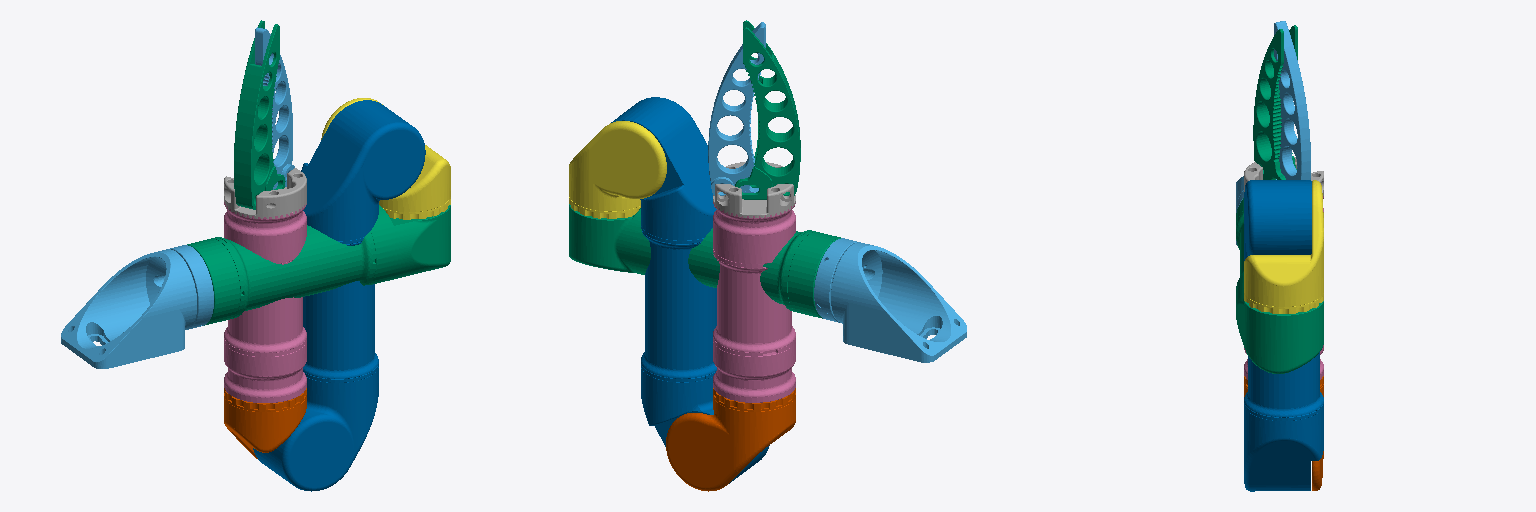
robot.urdf — reach_alpha_5:
<?xml version='1.0' encoding='utf-8'?>
<robot name="reach_alpha_5">
  <link name="world" />
  <link name="base_link">
    <visual>
      <geometry>
        <mesh filename="assets/RS1-1010.obj" />
      </geometry>
      <origin rpy="0 0 0" xyz="0 0 0" />
    </visual>
    <collision>
      <geometry>
        <cylinder length="0.150" radius="0.020" />
      </geometry>
      <origin rpy="0 1.57075 0" xyz="-0.055 0 0" />
    </collision>
    <inertial>
      <mass value="0.0001" />
      <inertia ixx="0.0001" ixy="0" ixz="0" iyy="0.0001" iyz="0" izz="0.0001" />
    </inertial>
  </link>
  <link name="m3_inline_link">
    <visual>
      <geometry>
        <mesh filename="assets/M3-INLINE.obj" />
      </geometry>
      <origin rpy="0 0 0" xyz="0 0 0" />
    </visual>
    <collision>
      <geometry>
        <cylinder length="0.150" radius="0.020" />
      </geometry>
      <origin rpy="0 1.57075 0" xyz="-0.055 0 0" />
    </collision>
    <inertial>
      <mass value="0.341" />
      <origin xyz="-0.055 0 0" />
      <inertia ixx="0.0000682" ixy="0" ixz="0" iyy="0.000673" iyz="0" izz="0.000673" />
    </inertial>
  </link>
  <link name="m2_1_1_link">
    <visual>
      <geometry>
        <mesh filename="assets/M2-1-1.obj" />
      </geometry>
      <origin rpy="0 0 0" xyz="0 0 0" />
    </visual>
    <collision>
      <geometry>
        <cylinder length="0.033" radius="0.020" />
      </geometry>
      <origin rpy="0 0 0" xyz="0 0 0.0165" />
    </collision>
    <inertial>
      <mass value="0.194" />
      <origin xyz="0 0 0.0165" />
      <inertia ixx="0.000037" ixy="0" ixz="0" iyy="0.000037" iyz="0" izz="0.0000388" />
    </inertial>
  </link>
  <link name="m2_link">
    <visual>
      <geometry>
        <mesh filename="assets/M2.obj" />
      </geometry>
      <origin rpy="0 0 0" xyz="0 0 0" />
    </visual>
    <collision>
      <geometry>
        <cylinder length="0.145" radius="0.020" />
      </geometry>
      <origin rpy="0 0 0" xyz="-0.02 0 -0.0725" />
    </collision>
    <collision>
      <geometry>
        <cylinder length="0.040" radius="0.020" />
      </geometry>
      <origin rpy="1.5707 0 0" xyz="0 0 0" />
    </collision>
    <collision>
      <geometry>
        <cylinder length="0.040" radius="0.020" />
      </geometry>
      <origin rpy="1.5707 0 0" xyz="-0.040 0 -0.1453" />
    </collision>
    <inertial>
      <mass value="0.429" />
      <origin xyz="-0.02 0 -0.0725" />
      <inertia ixx="0.0008907" ixy="0" ixz="0" iyy="0.0008907" iyz="0" izz="0.0000858" />
    </inertial>
  </link>
  <link name="m2_1_3_link">
    <visual>
      <geometry>
        <mesh filename="assets/M2-1-3.obj" />
      </geometry>
      <origin rpy="0 0 0" xyz="0 0 0" />
    </visual>
    <collision>
      <geometry>
        <cylinder length="0.033" radius="0.020" />
      </geometry>
      <origin rpy="0 0 0" xyz="0.02 0 0.0165" />
    </collision>
    <inertial>
      <mass value="0.115" />
      <origin xyz="0.02 0 0.0165" />
      <inertia ixx="0.0000219" ixy="0" ixz="0" iyy="0.0000219" iyz="0" izz="0.000023" />
    </inertial>
  </link>
  <link name="m1_link">
    <visual>
      <geometry>
        <mesh filename="assets/M1.obj" />
      </geometry>
      <origin rpy="0 -1.5707 0" xyz="0 0 0" />
    </visual>
    <collision>
      <geometry>
        <cylinder length="0.1" radius="0.020" />
      </geometry>
      <origin rpy="0 0 0" xyz="0 0 0.05" />
    </collision>
    <inertial>
      <mass value="0.200" />
      <origin xyz="0 0 0.05" />
      <inertia ixx="0.0001867" ixy="0" ixz="0" iyy="0.0001867" iyz="0" izz="0.00004" />
    </inertial>
  </link>
  <link name="rs1_124_link">
    <visual>
      <geometry>
        <mesh filename="assets/RS1-124.obj" />
      </geometry>
      <origin rpy="0 -1.5707 0" xyz="0 0 0" />
    </visual>
    <collision>
      <geometry>
        <cylinder length="0.1" radius="0.020" />
      </geometry>
      <origin rpy="0 0 0" xyz="0 0 0.05" />
    </collision>
    <inertial>
      <mass value="0.0001" />
      <inertia ixx="0.0001" ixy="0" ixz="0" iyy="0.0001" iyz="0" izz="0.0001" />
    </inertial>
  </link>
  <link name="push_rod">
    <visual>
      <origin rpy="0 0 0" xyz="0 0 0" />
      <geometry>
        <box size="0.001 0.001 0.001" />
      </geometry>
      <material name="transparent">
        <color rgba="0 0 0 0" />
      </material>
    </visual>
    <inertial>
      <mass value="0.0001" />
      <inertia ixx="0.0001" ixy="0" ixz="0" iyy="0.0001" iyz="0" izz="0.0001" />
    </inertial>
  </link>
  <joint name="base_joint" type="fixed">
    <origin rpy="0 0 0" xyz="0.0374 0 0.3725" />
    <parent link="world" />
    <child link="base_link" />
  </joint>
  <joint name="mount_joint" type="fixed">
    <parent link="base_link" />
    <child link="m3_inline_link" />
    <origin rpy="0 0 0" xyz="0.124 0.004 0" />
  </joint>
  <joint name="axis_e" type="revolute">
    <parent link="m3_inline_link" />
    <child link="m2_1_1_link" />
    <origin xyz="0 0 0.014" />
    <axis xyz="0 0 1" />
    <limit effort="9.0" lower="0.0" upper="6.1" velocity="0.5" />
  </joint>
  <joint name="axis_d" type="revolute">
    <parent link="m2_1_1_link" />
    <child link="m2_link" />
    <origin xyz="-0.02 0 0.033" />
    <axis xyz="0 1 0" />
    <limit effort="9.0" lower="-3.49" upper="3.49" velocity="0.5" />
  </joint>
  <joint name="axis_c" type="revolute">
    <parent link="m2_link" />
    <child link="m2_1_3_link" />
    <origin rpy="0 0 3.14159" xyz="-0.04 0 -0.1453" />
    <axis xyz="0 1 0" />
    <limit effort="9.0" lower="0.0" upper="3.22" velocity="0.5" />
  </joint>
  <joint name="axis_b" type="revolute">
    <parent link="m2_1_3_link" />
    <child link="m1_link" />
    <origin rpy="0 0 2.09439" xyz="0.02 0 0.033" />
    <axis xyz="0 0 -1" />
    <limit effort="9.0" lower="0.0" upper="3.22" velocity="0.5" />
  </joint>
  <joint name="tcp_base_joint" type="fixed">
    <origin rpy="0 0 0" xyz="0 0 0.09975" />
    <parent link="m1_link" />
    <child link="rs1_124_link" />
  </joint>
  <joint name="axis_a" type="prismatic">
    <origin rpy="0 0 0" xyz="0 0 0.009" />
    <parent link="rs1_124_link" />
    <child link="push_rod" />
    <axis xyz="0 0 1" />
    <limit effort="10" lower="0.0" upper="0.015" velocity="10" />
  </joint>
  <link name="rs1_130_link">
    <visual>
      <geometry>
        <mesh filename="assets/RS1-130.obj" />
      </geometry>
      <origin rpy="0 0 0" xyz="0 0 0" />
    </visual>
    <collision>
      <geometry>
        <box size="0.012 0.03 0.09" />
      </geometry>
      <origin rpy="0 0 0" xyz="0.0 -0.008 0.045" />
    </collision>
    <inertial>
      <mass value="0.055" />
      <origin rpy="0 0 0" xyz="0.0 -0.008 0.045" />
      <inertia ixx="0.00004125" ixy="0" ixz="0" iyy="0.000037785" iyz="0" izz="0.000004785" />
    </inertial>
  </link>
  <link name="rs1_139_link">
    <visual>
      <geometry>
        <mesh filename="assets/RS1-139.obj" />
      </geometry>
      <origin rpy="0 0 0" xyz="0 0 0" />
    </visual>
    <collision>
      <geometry>
        <box size="0.012 0.03 0.09" />
      </geometry>
      <origin rpy="0 0 0" xyz="0.0 0.008 0.045" />
    </collision>
    <inertial>
      <mass value="0.055" />
      <origin rpy="0 0 0" xyz="0.0 0.008 0.045" />
      <inertia ixx="0.00004125" ixy="0" ixz="0" iyy="0.000037785" iyz="0" izz="0.000004785" />
    </inertial>
  </link>
  <link name="tcp">
    <inertial>
      <mass value="0.0001" />
      <inertia ixx="0.0001" ixy="0" ixz="0" iyy="0.0001" iyz="0" izz="0.0001" />
    </inertial>
  </link>
  <joint name="rs1_130_joint" type="revolute">
    <origin rpy="0 0 0" xyz="0 0.0155 0.0069" />
    <parent link="rs1_124_link" />
    <child link="rs1_130_link" />
    <axis xyz="-1 0 0" />
    <limit effort="10" lower="0" upper="0.5" velocity="10" />
    <mimic joint="axis_a" multiplier="51" offset="0" />
  </joint>
  <joint name="rs1_139_joint" type="revolute">
    <origin rpy="0 0 0" xyz="0 -0.0155 0.0069" />
    <parent link="rs1_124_link" />
    <child link="rs1_139_link" />
    <axis xyz="1 0 0" />
    <limit effort="10" lower="0" upper="0.5" velocity="10" />
    <mimic joint="rs1_130_joint" multiplier="1" offset="0" />
  </joint>
  <joint name="tcp_joint" type="fixed">
    <origin rpy="0 -1.5707963267948966 0" xyz="0 0 0.04" />
    <parent link="rs1_124_link" />
    <child link="tcp" />
  </joint>
  <mujoco>
    <compiler discardvisual="false" fusestatic="false" />
  </mujoco>
</robot>

--- Facts derived from the render (not from the file) ---
3 views of the same robot in one strip: view 1: azimuth 30°, elevation 25°; view 2: azimuth 150°, elevation 25°; view 3: azimuth 270°, elevation 25° (orthographic).
Model reach_alpha_5 with 12 links and 11 joints (6 revolute, 1 prismatic, 4 fixed), rooted at world, posed every joint at zero.
Visible links, largest first — view 1: m2_link, m3_inline_link, base_link, m1_link, rs1_139_link, m2_1_3_link, m2_1_1_link, rs1_130_link, rs1_124_link; view 2: m2_link, m1_link, base_link, m3_inline_link, m2_1_3_link, m2_1_1_link, rs1_139_link, rs1_130_link, rs1_124_link; view 3: m2_link, m3_inline_link, m2_1_1_link, rs1_130_link, rs1_139_link.
Boxes of the visible links, box(x1,y1,x2,y2) form: m2_link: box(253, 100, 425, 491); m3_inline_link: box(187, 205, 450, 325); base_link: box(61, 245, 213, 368); m1_link: box(224, 202, 306, 402); rs1_139_link: box(234, 20, 285, 209); m2_1_3_link: box(224, 388, 306, 458); m2_1_1_link: box(321, 98, 450, 219); rs1_130_link: box(255, 27, 294, 189); rs1_124_link: box(224, 168, 306, 218); m2_link: box(611, 97, 769, 483); m1_link: box(713, 202, 795, 402); base_link: box(814, 238, 966, 362); m3_inline_link: box(569, 204, 840, 318); m2_1_3_link: box(666, 388, 795, 491); m2_1_1_link: box(569, 121, 666, 218); rs1_139_link: box(735, 20, 800, 199); rs1_130_link: box(708, 22, 765, 195); rs1_124_link: box(713, 162, 795, 217); m2_link: box(1244, 180, 1323, 491); m3_inline_link: box(1236, 198, 1323, 373); m2_1_1_link: box(1244, 180, 1323, 313); rs1_130_link: box(1274, 21, 1310, 179); rs1_139_link: box(1253, 25, 1297, 179).
Size in the robot's own frame: 0.2064 by 0.044 by 0.2448 metres.
Meshes: 9 distinct files referenced, 9 mesh visuals loaded (9 OBJ).
